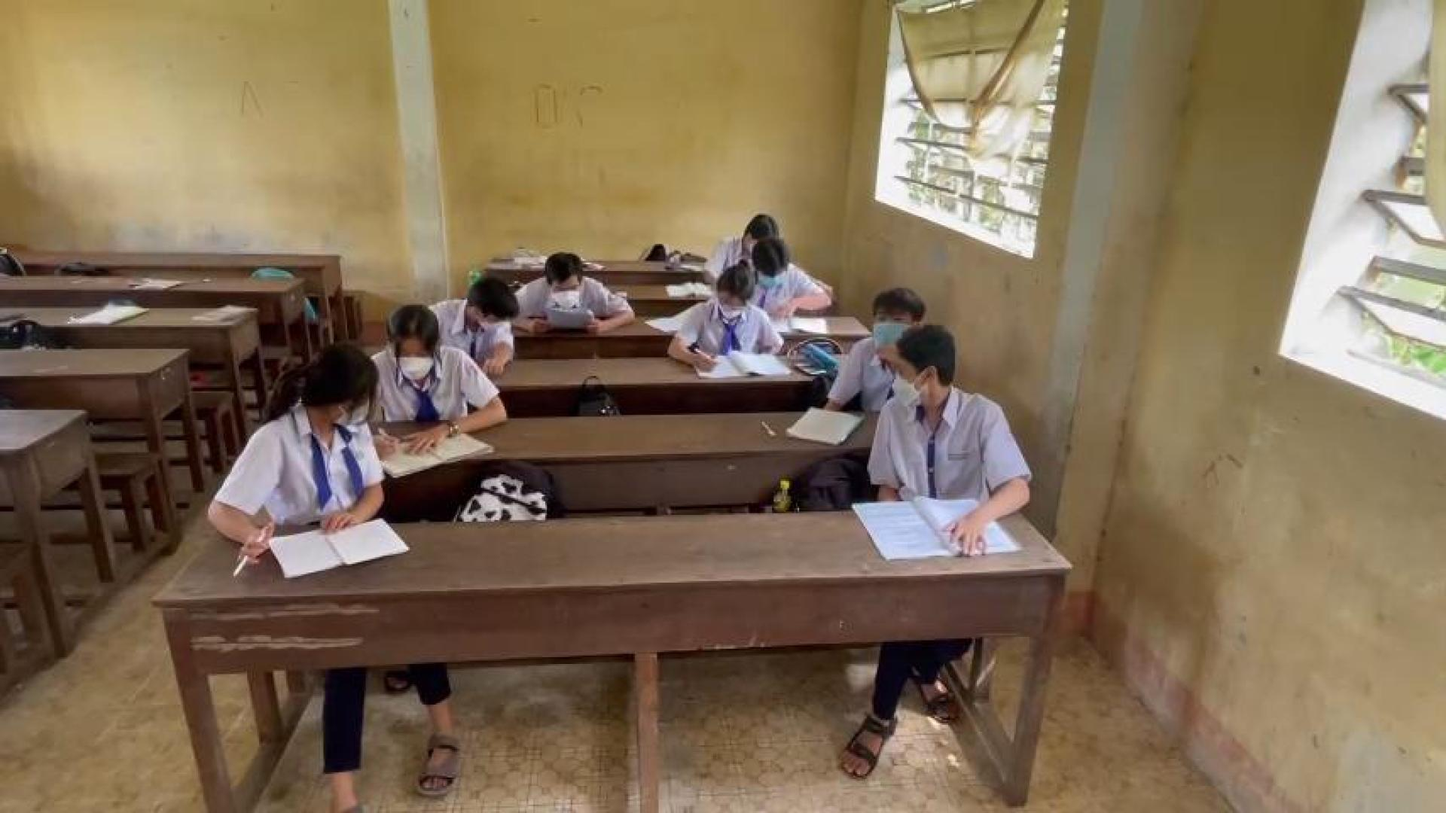Hand Under Table: (853, 394, 911, 508), (821, 328, 863, 420)
Look Around: (278, 339, 376, 437), (874, 315, 972, 413)
